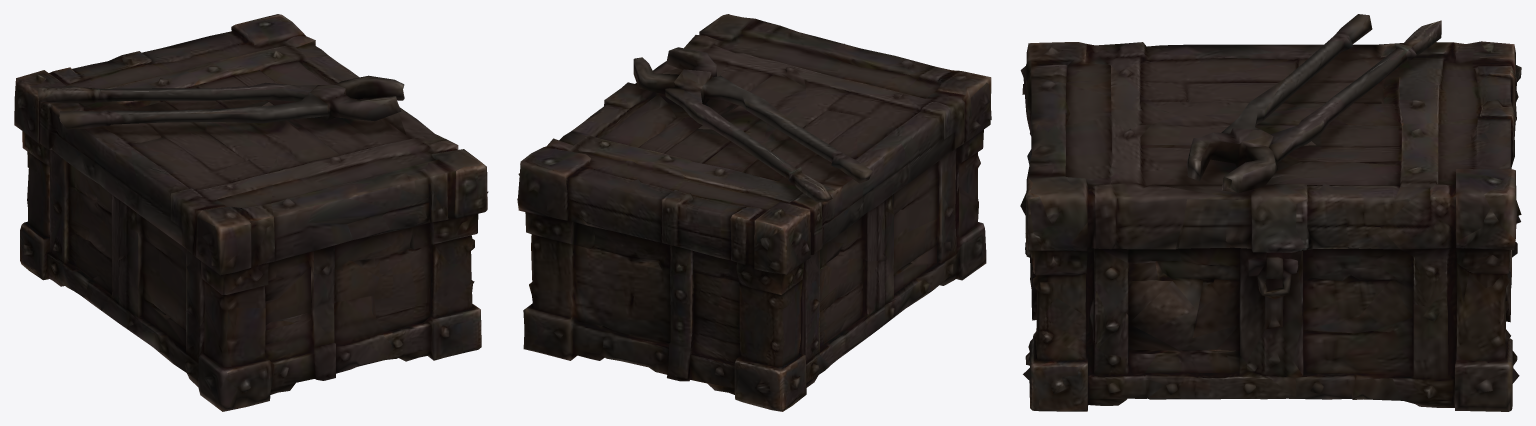
File: chest.glb
3 renders of one model, left to right at view 1: azimuth 30°, elevation 25°; view 2: azimuth 150°, elevation 25°; view 3: azimuth 270°, elevation 25°, orthographic. The views are drawn at different scales.
Visible parts, largest first — view 1: chest; view 2: chest; view 3: chest.
Boxes of the visible parts, bbox=[...] form: chest: bbox=[14, 14, 488, 411]; chest: bbox=[517, 14, 991, 411]; chest: bbox=[1020, 14, 1521, 411].
Size of the model in its own units: 0.9209 by 0.6233 by 1.15.
Materials: 1 (1 with a texture image).
